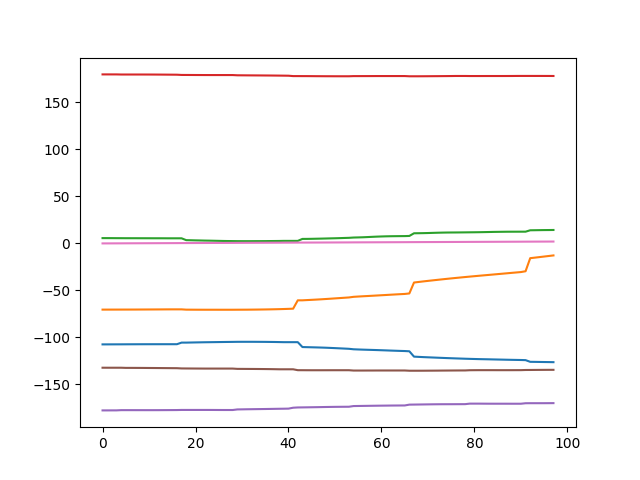Too_Slow_Down: (3, 1, 640, 480)
